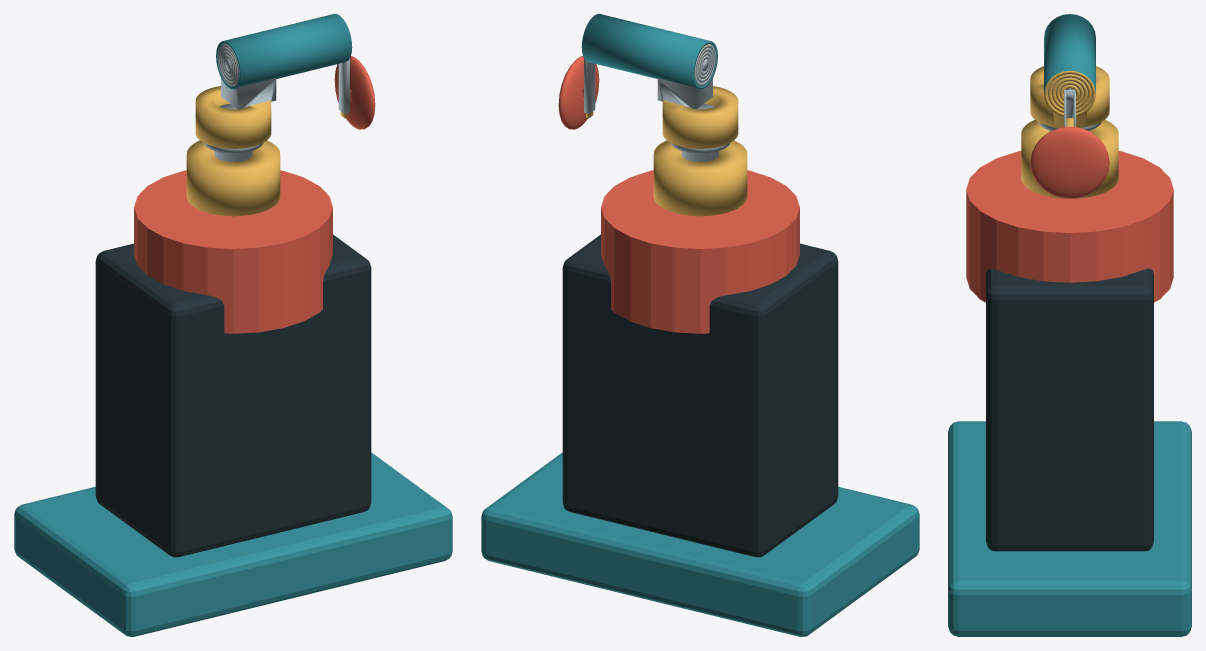
The model's file is trip_telescopic_v1.2f331432.glb.
3 views of the same model, side by side, from view 1: azimuth 30°, elevation 25°; view 2: azimuth 150°, elevation 25°; view 3: azimuth 270°, elevation 25° (orthographic). The views are drawn at different scales.
Visible parts, largest first — view 1: TRIP_FIXED_COLUMN, TRIP_FIXED_FOOT, TRIP_FIXED_MOTOR, TRIP_ROTARY_CARRIER, TRIP_FIXED_BEARING, TRIP_SOFT_PAD, TRIP_TELESCOPE_ROD_5, TRIP_FIXED_SHAFT; view 2: TRIP_FIXED_COLUMN, TRIP_FIXED_FOOT, TRIP_FIXED_MOTOR, TRIP_ROTARY_CARRIER, TRIP_FIXED_BEARING, TRIP_SOFT_PAD, TRIP_TELESCOPE_ROD_5, TRIP_FIXED_SHAFT; view 3: TRIP_FIXED_COLUMN, TRIP_FIXED_FOOT, TRIP_FIXED_MOTOR, TRIP_ROTARY_CARRIER, TRIP_SOFT_PAD, TRIP_FIXED_BEARING, TRIP_TELESCOPE_TUBE_1, TRIP_TELESCOPE_ROD_5, TRIP_TELESCOPE_TUBE_2.
Boxes of the visible parts, x1,y1,x2,y2 form: TRIP_FIXED_COLUMN: (95,234,371,557); TRIP_FIXED_FOOT: (14,452,452,636); TRIP_FIXED_MOTOR: (134,170,332,333); TRIP_ROTARY_CARRIER: (195,14,352,148); TRIP_FIXED_BEARING: (186,140,280,216); TRIP_SOFT_PAD: (334,56,375,129); TRIP_TELESCOPE_ROD_5: (225,58,349,113); TRIP_FIXED_SHAFT: (203,104,263,161); TRIP_FIXED_COLUMN: (562,234,838,557); TRIP_FIXED_FOOT: (481,452,919,636); TRIP_FIXED_MOTOR: (601,170,799,333); TRIP_ROTARY_CARRIER: (581,14,738,148); TRIP_FIXED_BEARING: (653,140,747,216); TRIP_SOFT_PAD: (558,56,599,129); TRIP_TELESCOPE_ROD_5: (584,58,708,113); TRIP_FIXED_SHAFT: (670,104,730,161); TRIP_FIXED_COLUMN: (986,268,1153,551); TRIP_FIXED_FOOT: (948,421,1191,636); TRIP_FIXED_MOTOR: (966,151,1173,302); TRIP_ROTARY_CARRIER: (1030,14,1109,127); TRIP_SOFT_PAD: (1030,126,1109,198); TRIP_FIXED_BEARING: (1021,120,1118,198); TRIP_TELESCOPE_TUBE_1: (1048,74,1091,112); TRIP_TELESCOPE_ROD_5: (1064,88,1075,127); TRIP_TELESCOPE_TUBE_2: (1052,77,1087,109).
Bounding box in the file's own units: 1.3 × 1.96 × 0.8.
